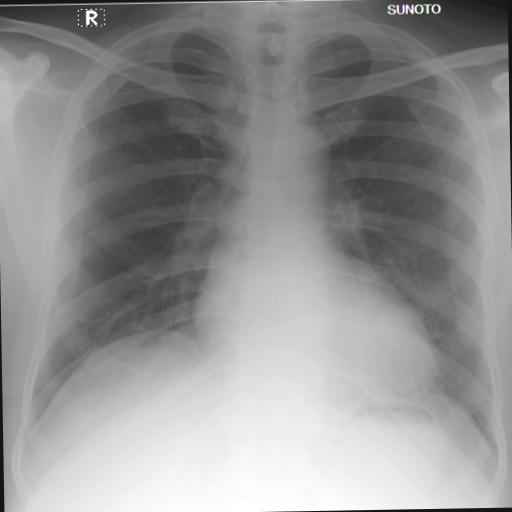kardiomegali: (4, 0, 510, 473)
